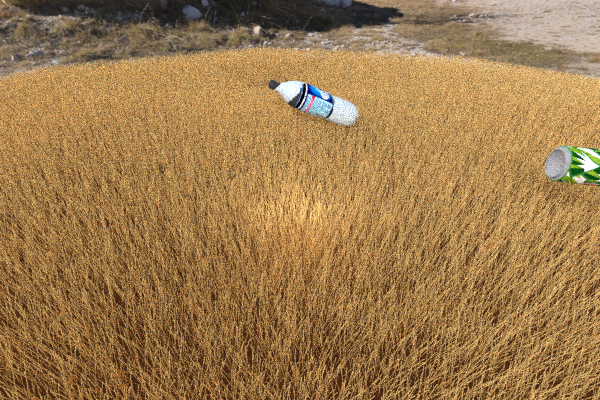bottle: (268, 79, 359, 126)
can: (544, 145, 600, 188)
